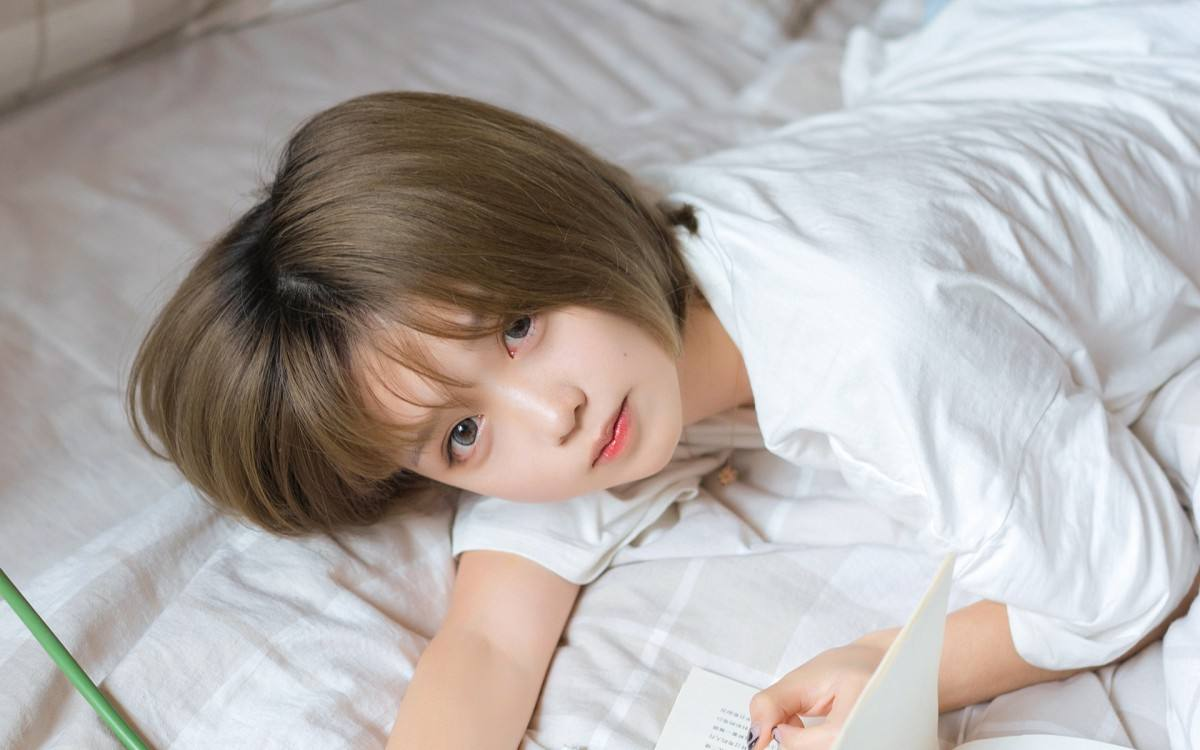person: (130, 95, 879, 621)
